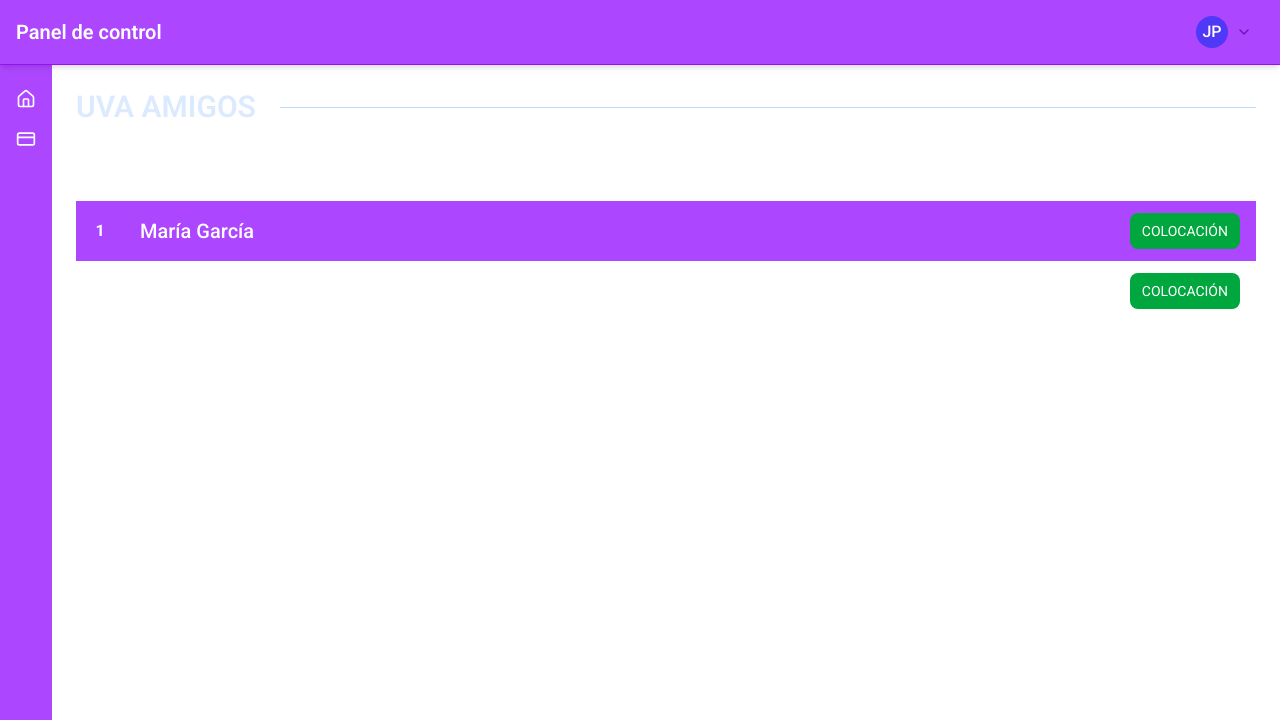
Test case: TanquePage › Asignar a otro padre › debe mostrar diálogo de confirmación al hacer clic en COLOCAR
Expected: the text "María García" is shown, top-left (140, 219), bottom-right (254, 243)
Note: Abrir modal, buscar padre y hacer clic en COLOCAR
Click the button "Colocación" in the row of "María" at (1185, 231), box top-left (1130, 213), bottom-right (1240, 249)
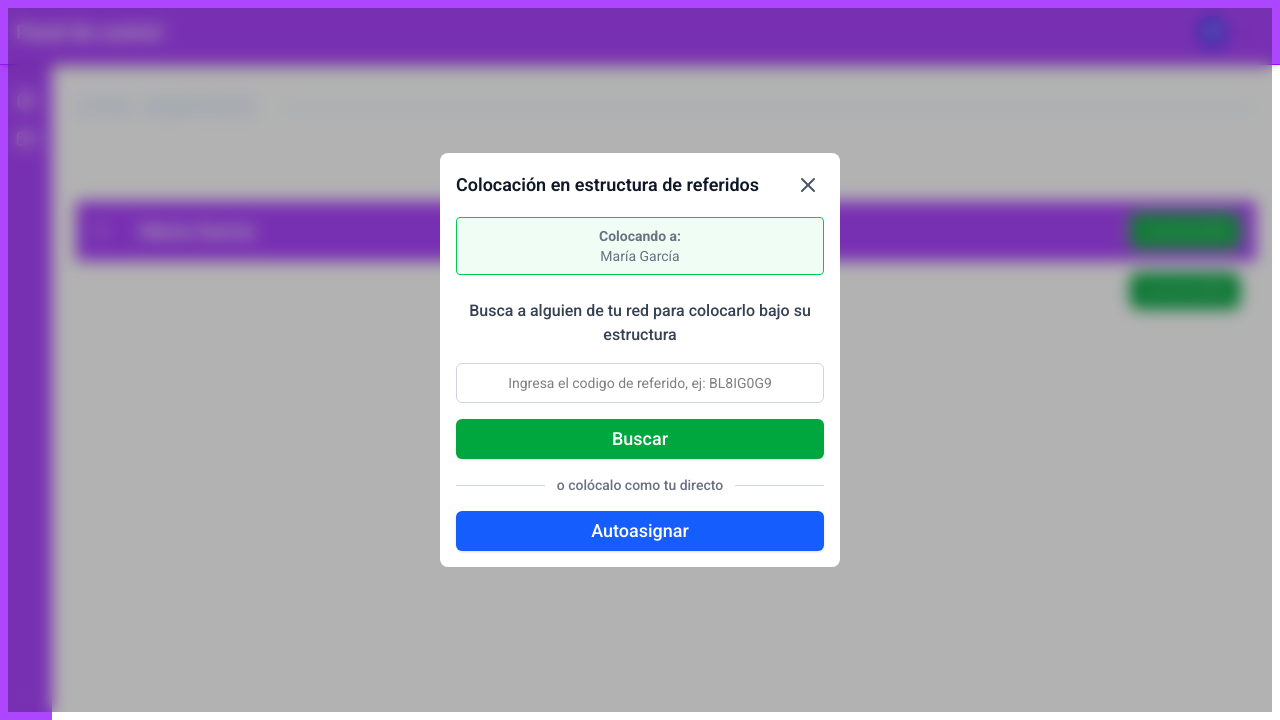
Type "PAR001" into the field with placeholder "Ingresa el codigo de referido, ej: BL8IG0G9" at (640, 383), box top-left (456, 363), bottom-right (824, 403)
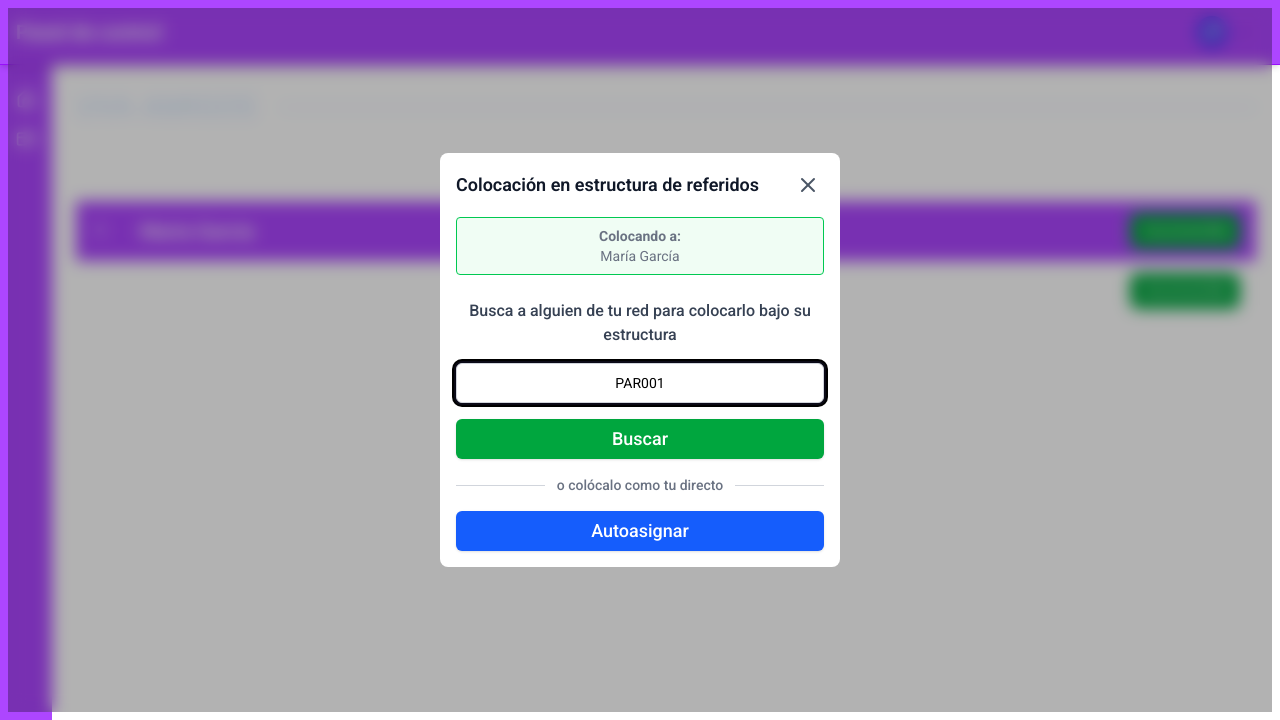
Click the button "Buscar" at (640, 439), box top-left (456, 419), bottom-right (824, 459)
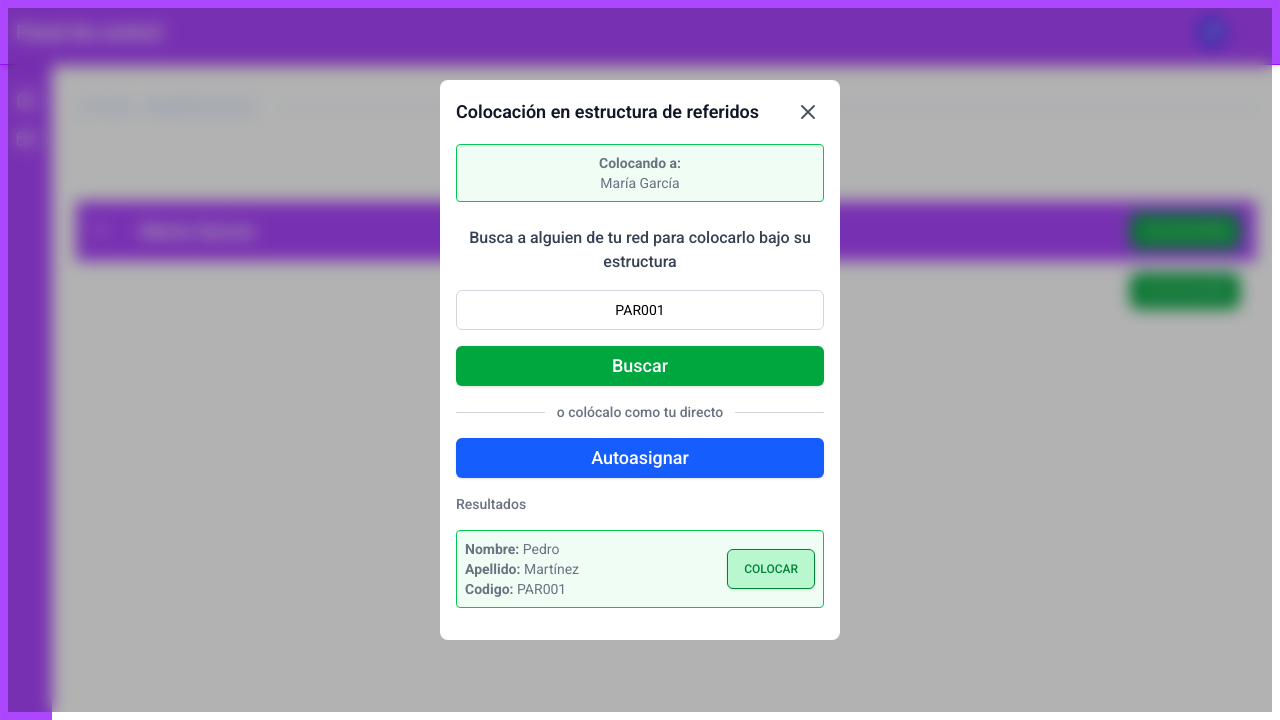
Now the text "Nombre: Pedro" is shown, box top-left (465, 541), bottom-right (559, 557)
Click the button "COLOCAR" at (771, 569), box top-left (727, 549), bottom-right (815, 589)
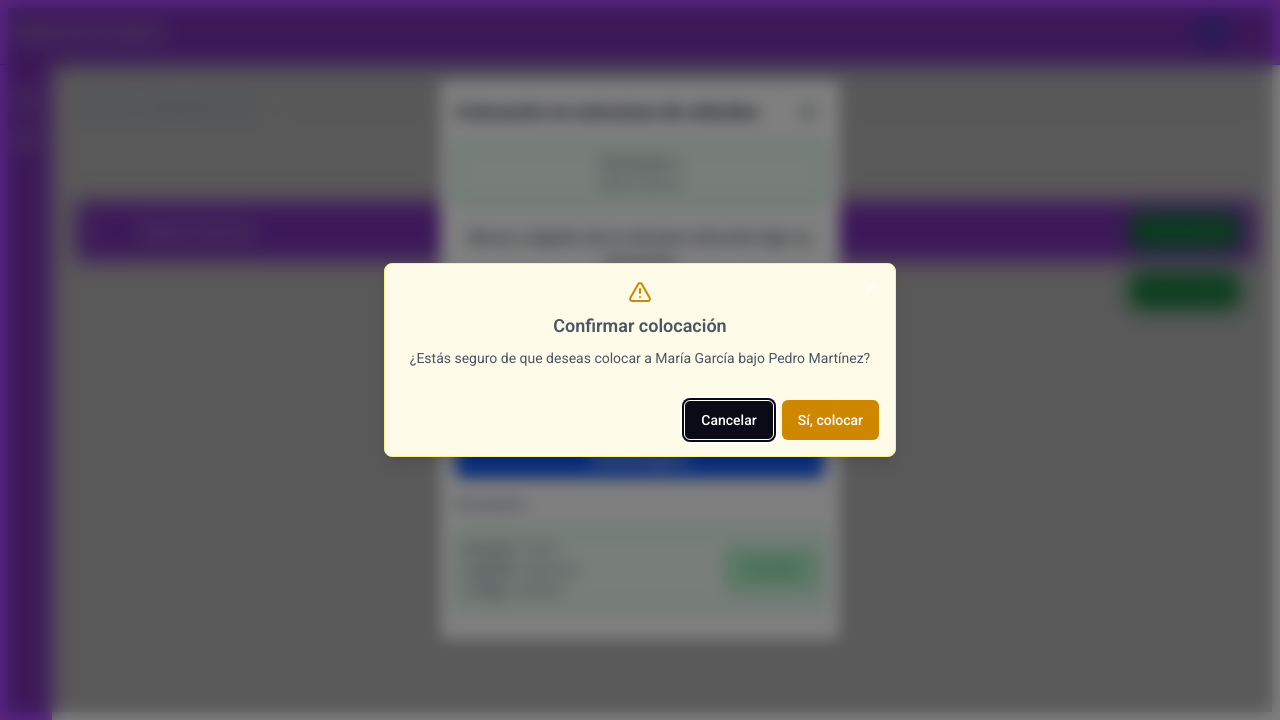
Now the heading "Confirmar colocación" is shown, box top-left (553, 312), bottom-right (727, 340)
Now the text "¿Estás seguro de que deseas colocar a María García bajo Pedro Martínez?" is shown, box top-left (410, 348), bottom-right (870, 368)
